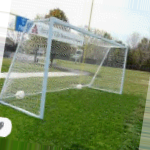goals: (1, 15, 129, 120)
